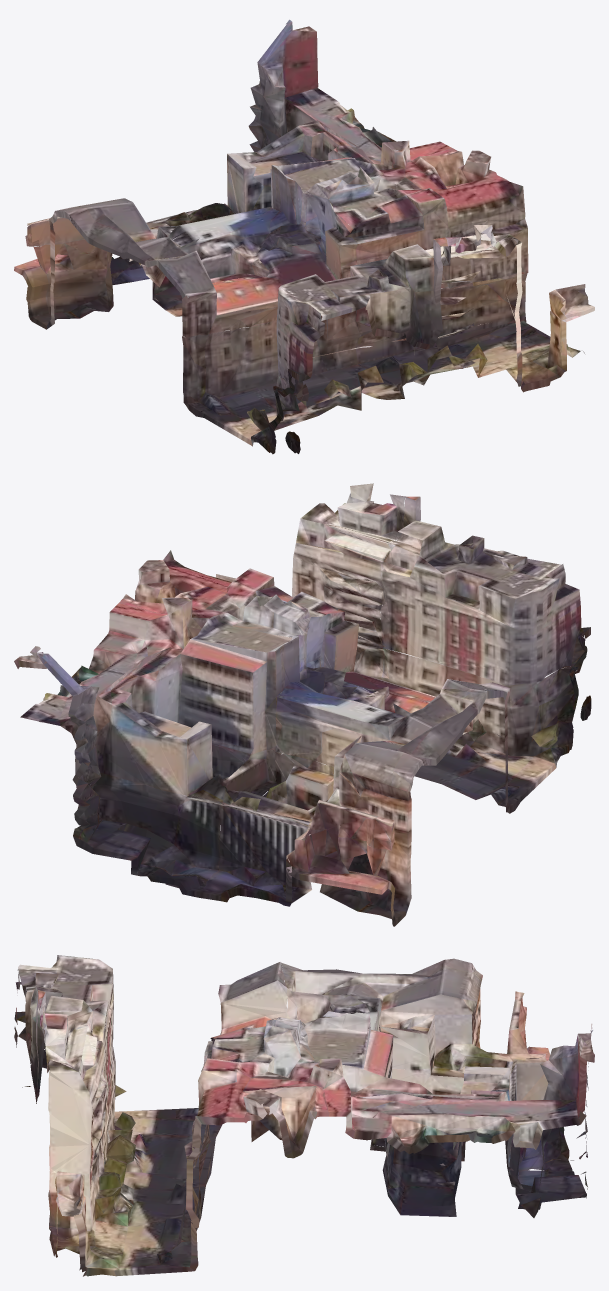
3 views of the same model, one above another, from view 1: azimuth 30°, elevation 25°; view 2: azimuth 150°, elevation 25°; view 3: azimuth 270°, elevation 25° (orthographic). The views are drawn at different scales.
Parts seen in each view (by area): view 1: Mesh_0; view 2: Mesh_0; view 3: Mesh_0.
Boxes of the visible parts, x1,y1,x2,y2 form: Mesh_0: (14,19,594,454); Mesh_0: (14,483,591,926); Mesh_0: (14,955,594,1276).
Size of the model in its own units: 66.55 by 37.65 by 82.57.
Materials: 1 (1 with a texture image).
